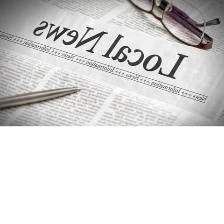news_paper: (0, 0, 224, 126)
